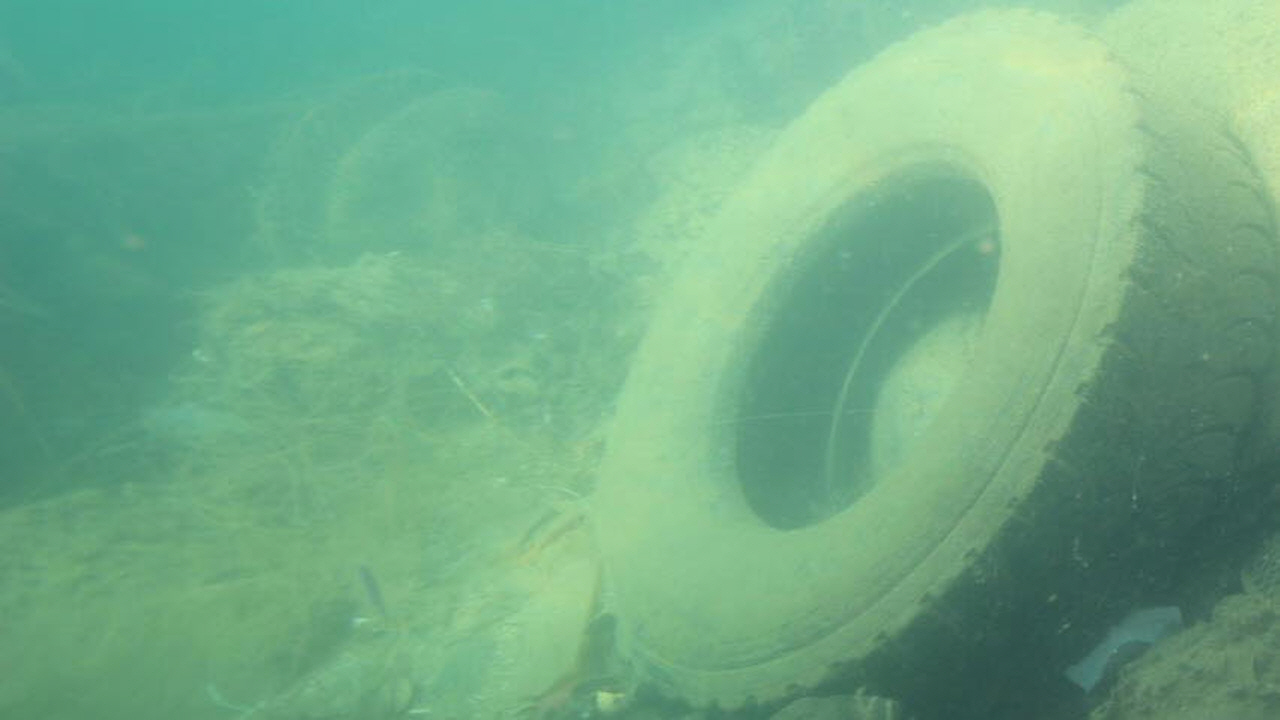tire: (590, 6, 1280, 710)
